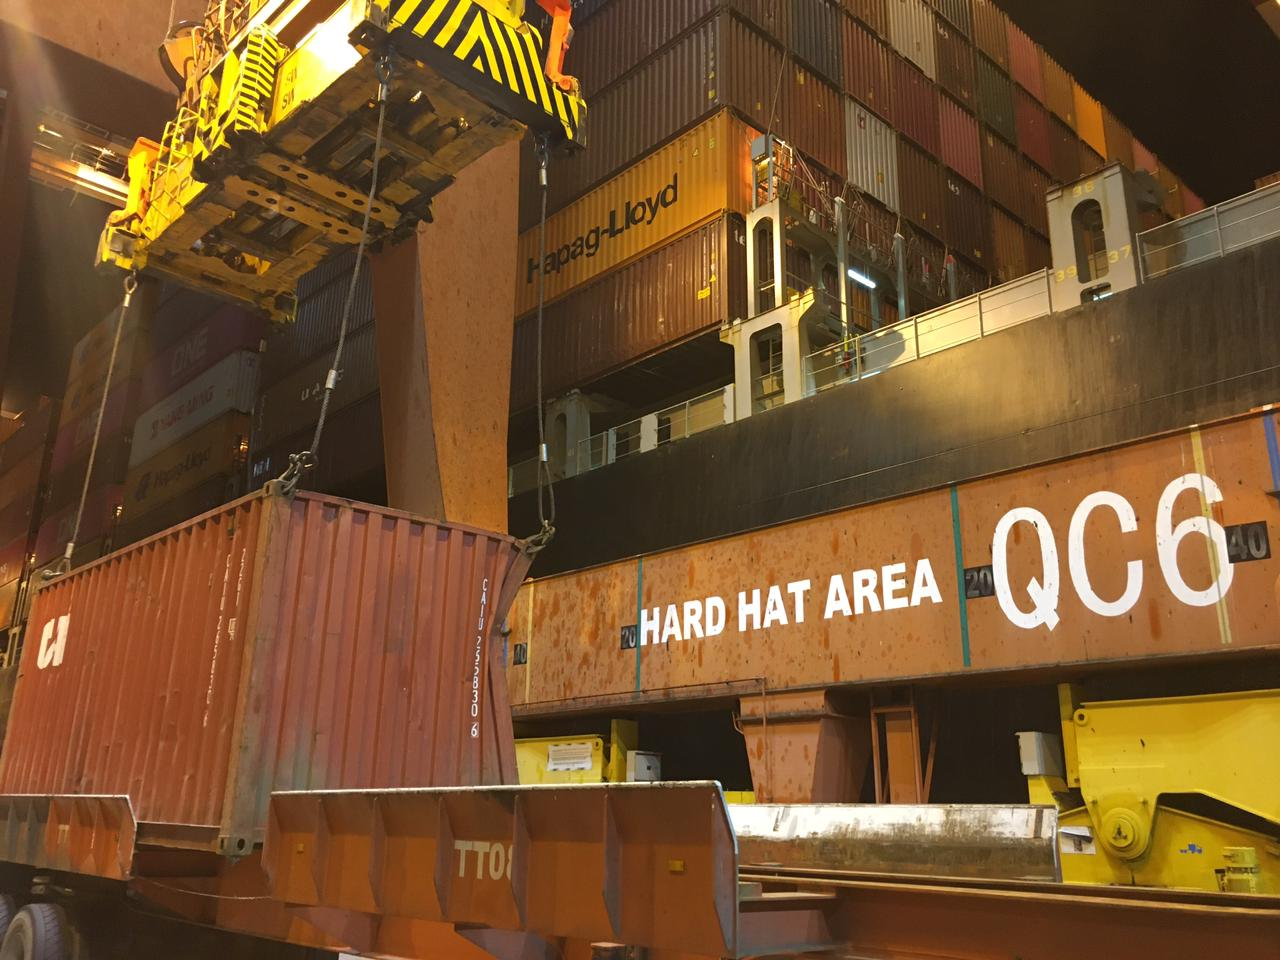dented: (442, 546, 546, 659)
